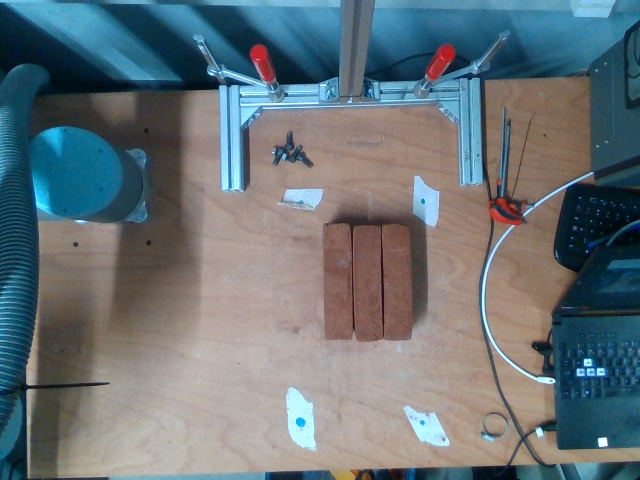brick-side: (382, 225, 413, 341), (352, 224, 382, 341), (323, 223, 351, 339)
